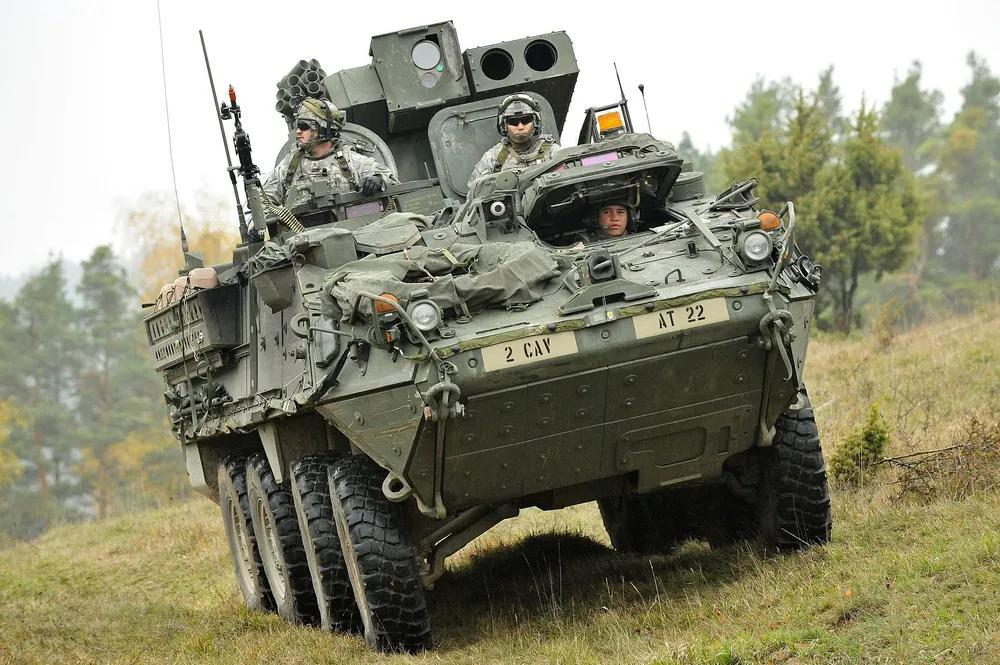MIL_IFV: (144, 18, 832, 655)
